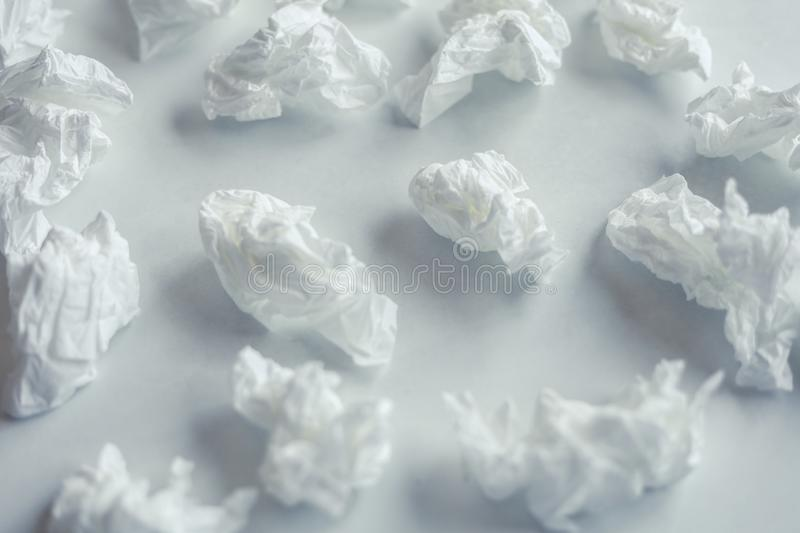Tissue: (436, 356, 727, 533), (596, 173, 800, 393), (191, 183, 399, 374), (4, 206, 146, 421), (195, 2, 394, 127), (406, 145, 568, 297), (396, 2, 572, 128), (678, 60, 800, 168), (589, 1, 720, 79)
